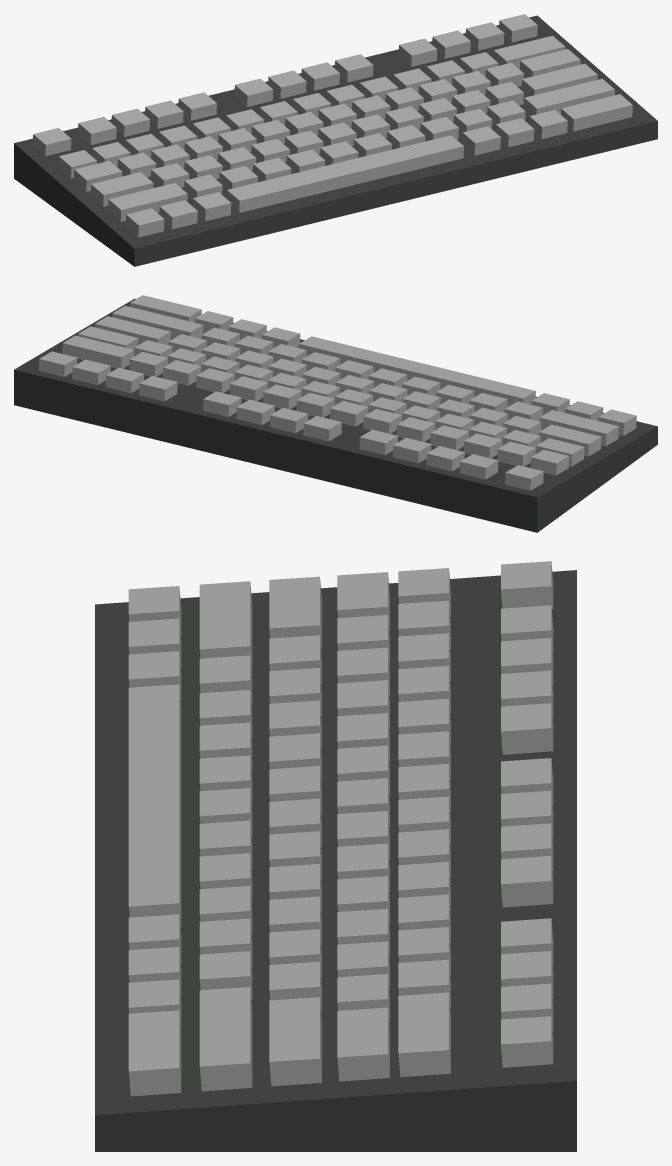
The model's file is keyboard.fbx.
The picture shows the model from 3 angles, top to bottom: view 1: azimuth 30°, elevation 25°; view 2: azimuth 150°, elevation 25°; view 3: azimuth 270°, elevation 25°; orthographic projection. The views are drawn at different scales.
Parts seen in each view (by area): view 1: keyboard; view 2: keyboard; view 3: keyboard.
Boxes of the visible parts, x1,y1,x2,y2 form: keyboard: (14,14,657,266); keyboard: (14,295,657,532); keyboard: (95,561,576,1151).
Size of the model in its own units: 1.57 by 0.1321 by 0.625.
